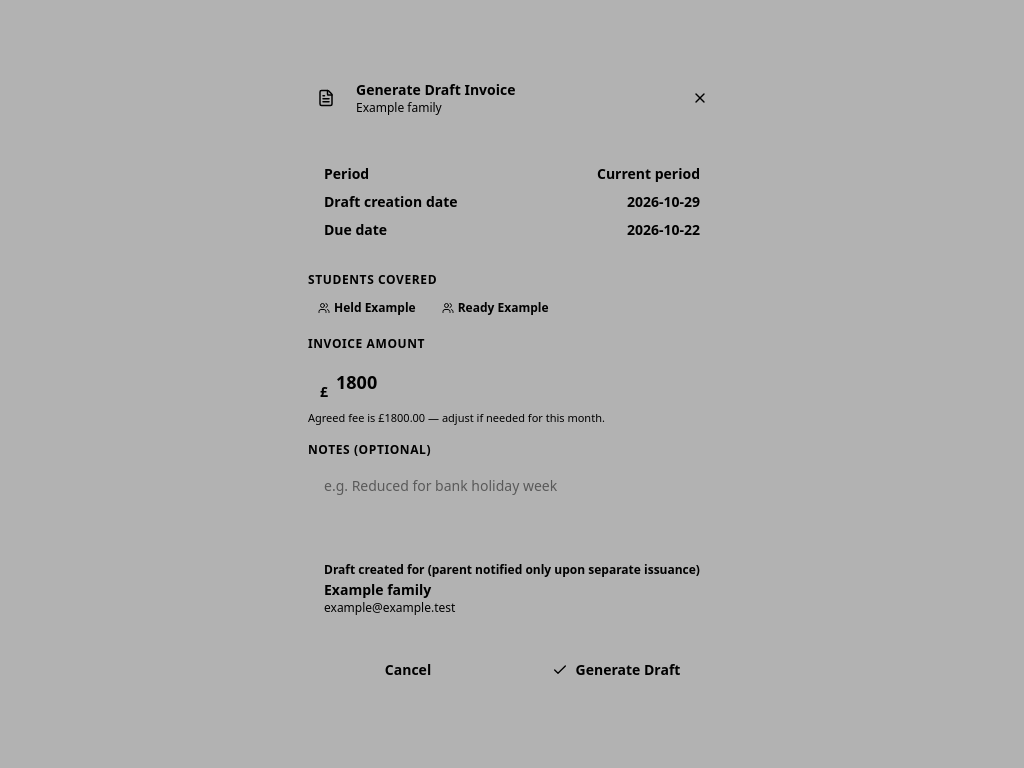
Test: draft generation recovery › keeps the fee and notes and links directly to the blocked student without claiming success
Replace the text in the number field with "1700" at (512, 382), box [308, 358, 716, 406]
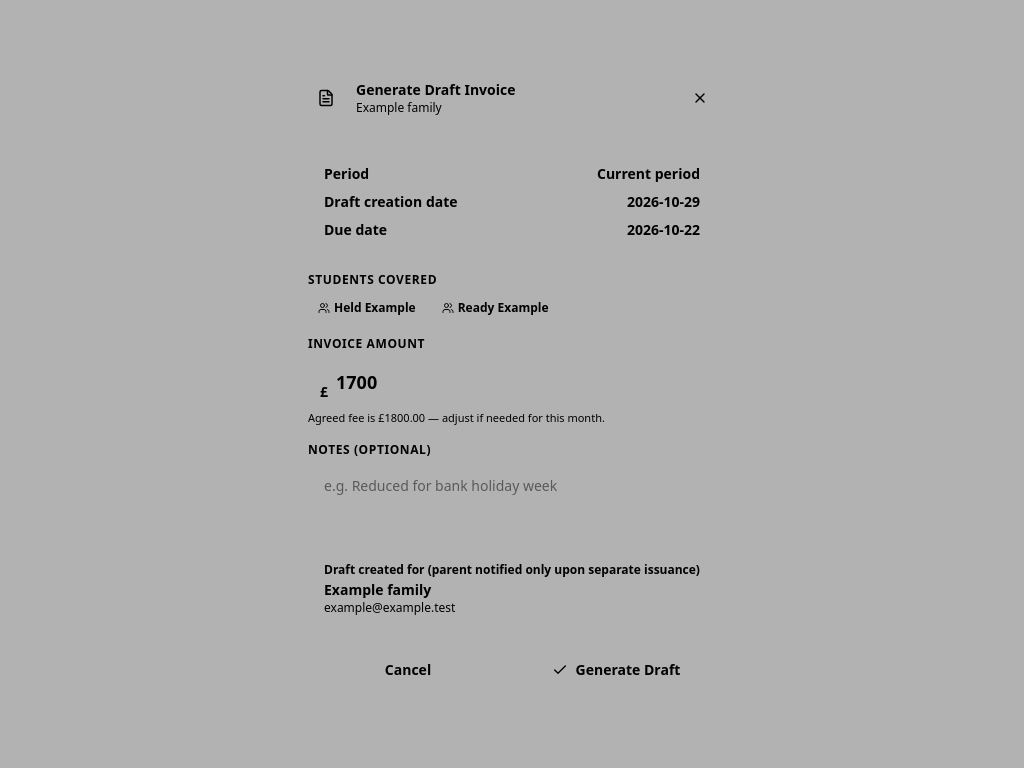
Type "Keep this note" into the text box with placeholder "e.g. Reduced for bank holiday week" at (512, 496), box [308, 464, 716, 528]
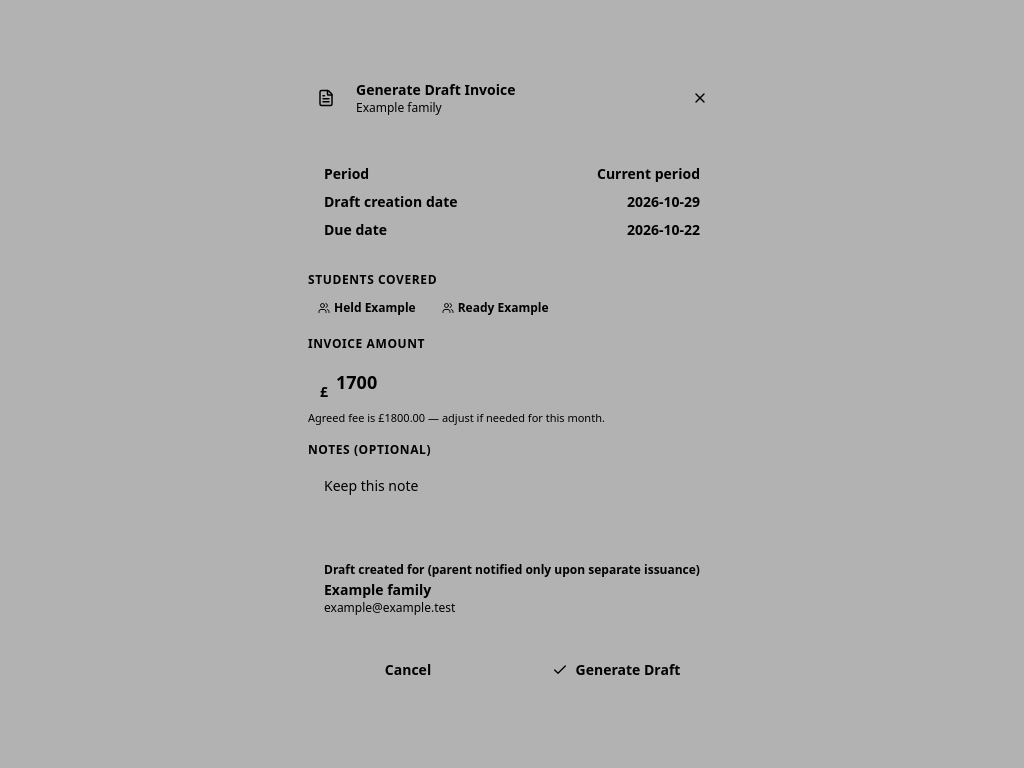
Click the button "Generate Draft" at (616, 670), box [516, 648, 716, 692]
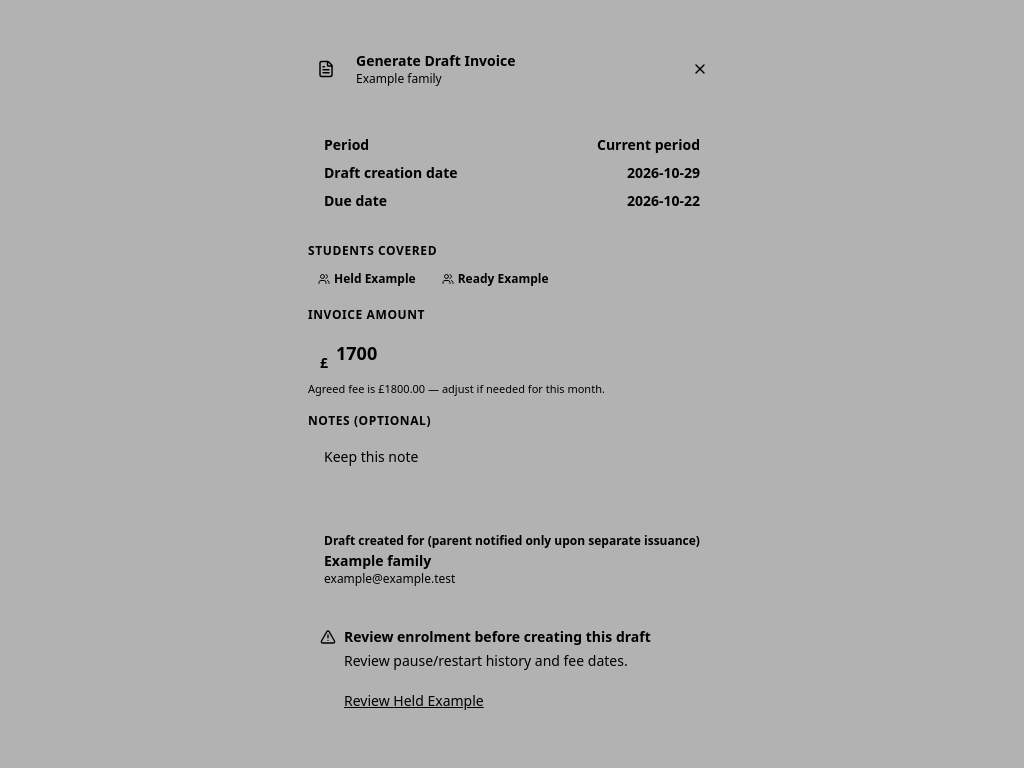
Check: the message shows "Review enrolment", box [344, 627, 651, 646]
